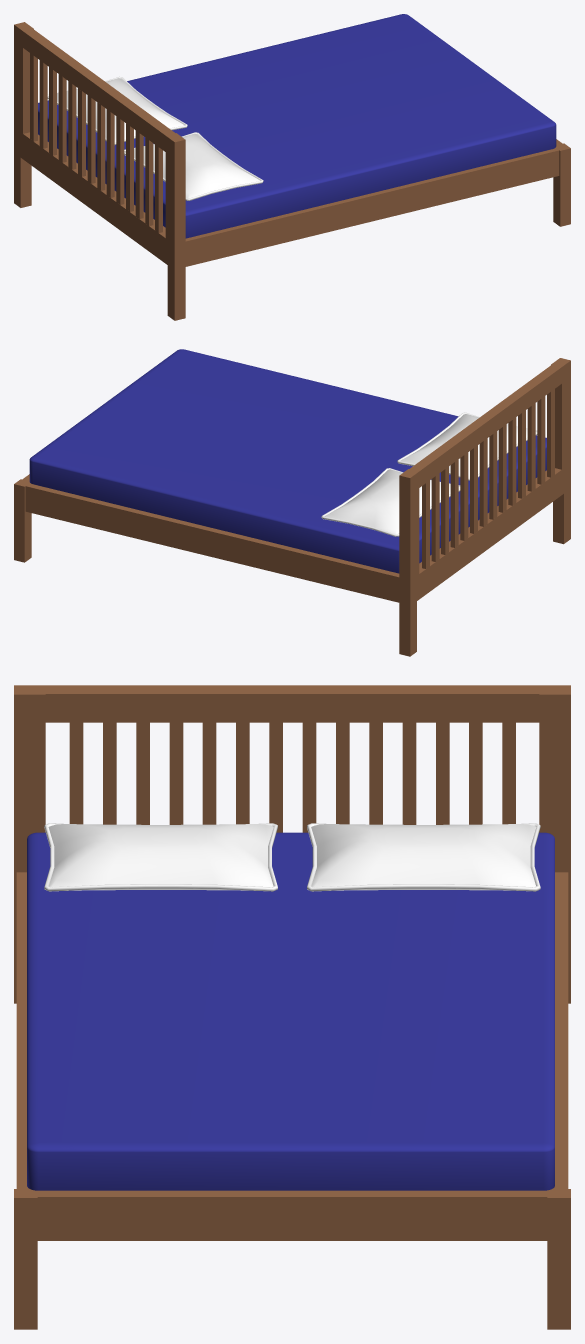
The model's file is doubleBed.dae.
3 views of the same model, one above another, from view 1: azimuth 30°, elevation 25°; view 2: azimuth 150°, elevation 25°; view 3: azimuth 270°, elevation 25° (orthographic). The views are drawn at different scales.
Parts seen in each view (by area): view 1: group_1, group_0 (×15), _pillow_60x40_B (×3); view 2: group_1, group_0 (×15), _pillow_60x40_B (×3); view 3: group_1, group_0 (×15), _pillow_60x40_B (×4).
Boxes of the visible parts, bbox=[...] form: group_1: bbox=[38, 14, 556, 238]; group_0 (×15): bbox=[14, 22, 570, 320]; _pillow_60x40_B (×3): bbox=[47, 77, 263, 200]; group_1: bbox=[29, 349, 546, 573]; group_0 (×15): bbox=[14, 358, 570, 656]; _pillow_60x40_B (×3): bbox=[321, 413, 537, 536]; group_1: bbox=[27, 832, 554, 1190]; group_0 (×15): bbox=[14, 685, 570, 1329]; _pillow_60x40_B (×4): bbox=[44, 823, 540, 891].
Size of the model in its own units: 79.51 by 55.91 by 34.25.
Materials: 3 (2 with a texture image).
